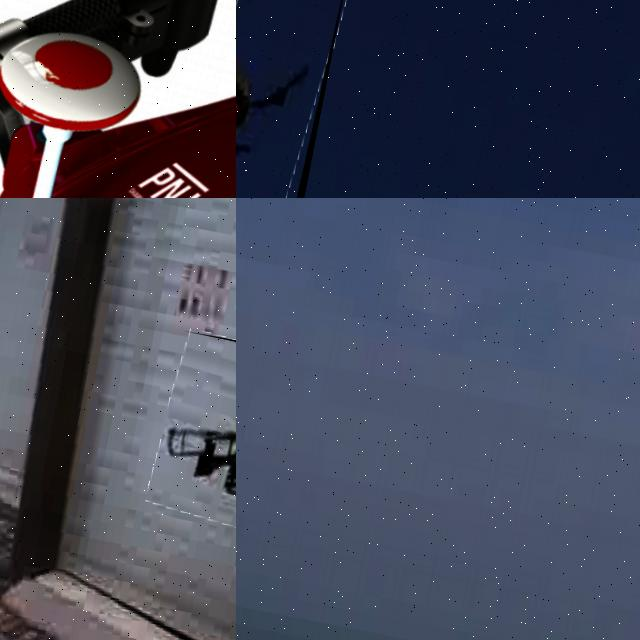drone: (0, 0, 236, 198), (236, 0, 349, 198), (147, 330, 236, 552)
